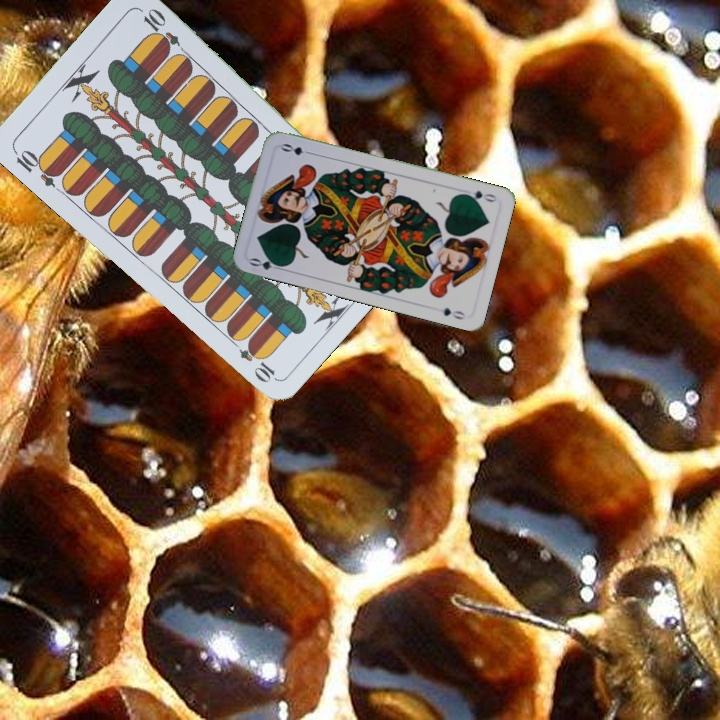E10: (9, 145, 63, 190)
GO: (246, 253, 287, 273), (459, 186, 499, 205)
